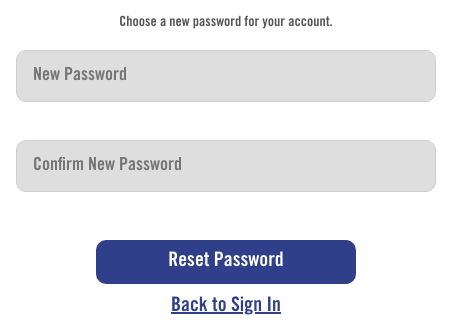
it: shows error when passwords do not match
In the password field with placeholder "New Password": (226,76) x1=16 y1=50 x2=436 y2=102, type "Password1!"
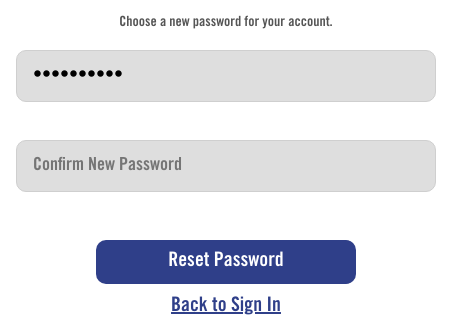
In the password field with placeholder "Confirm New Password": (226,166) x1=16 y1=140 x2=436 y2=192, type "Password2!"
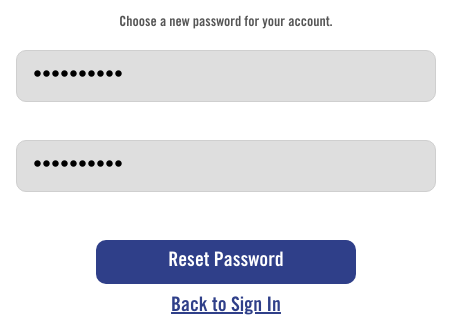
Click the button "Reset Password": (226,262) x1=96 y1=240 x2=356 y2=284
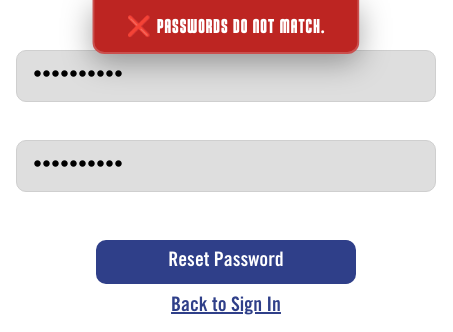
Check: the text "❌ Passwords do not match." is shown, box x1=92 y1=0 x2=360 y2=54
